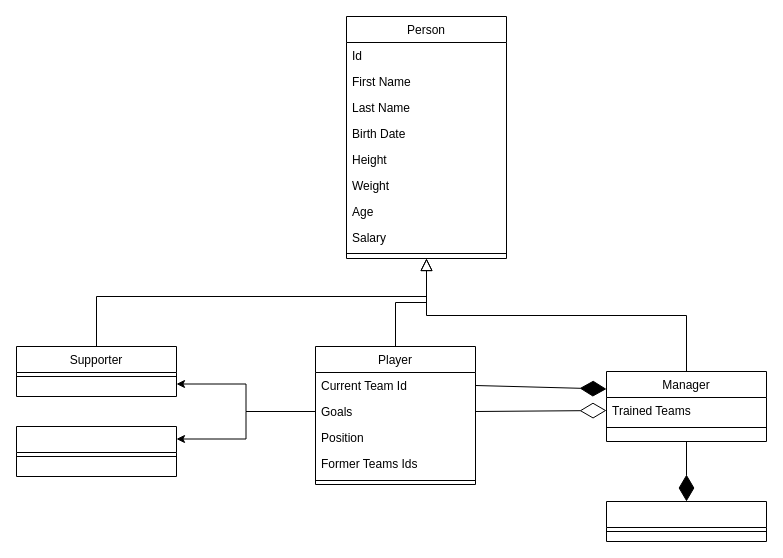
Some shapes in this 783 by 558 pixel diagram are drawn without their labels. Each missing label, with the centre of its shape:
"Accesories" belongs at [96,451].
"Team Project" belongs at [686,521].
